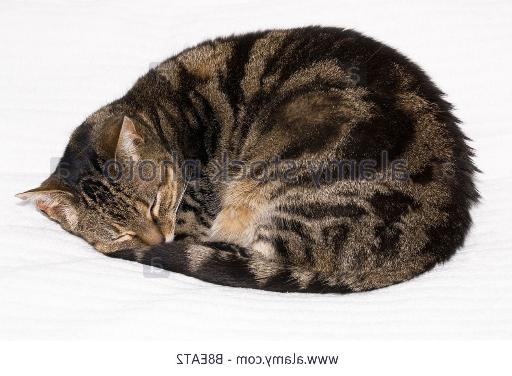cat_sleeping: (17, 26, 479, 293)
